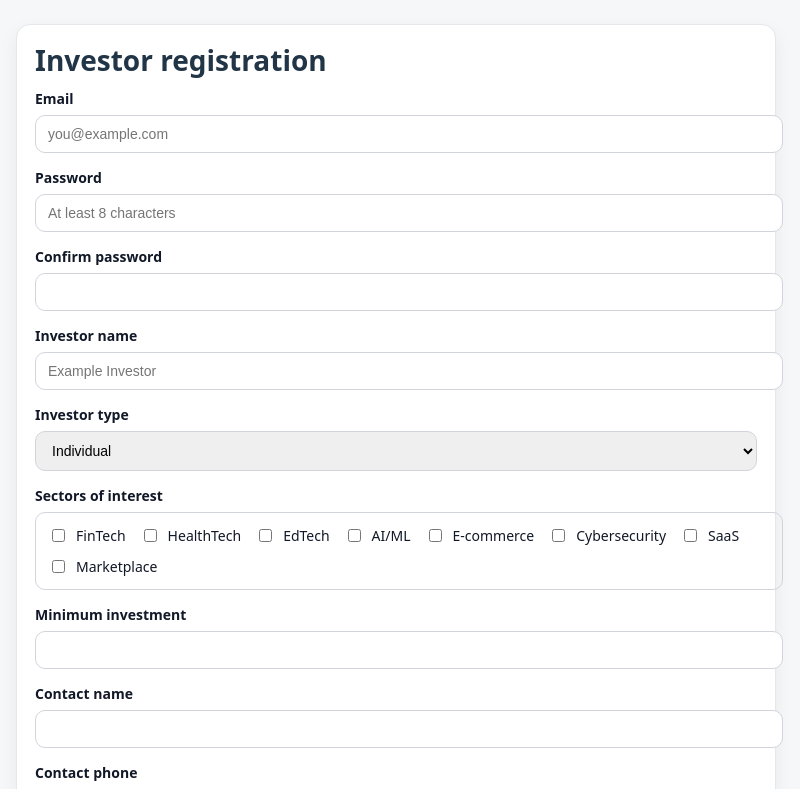
Scenario: RegisterInvestor › shows password mismatch error
Type "investor_test@example.com" into the field labelled "Email" at [409, 134], box top-left (35, 115), bottom-right (783, 153)
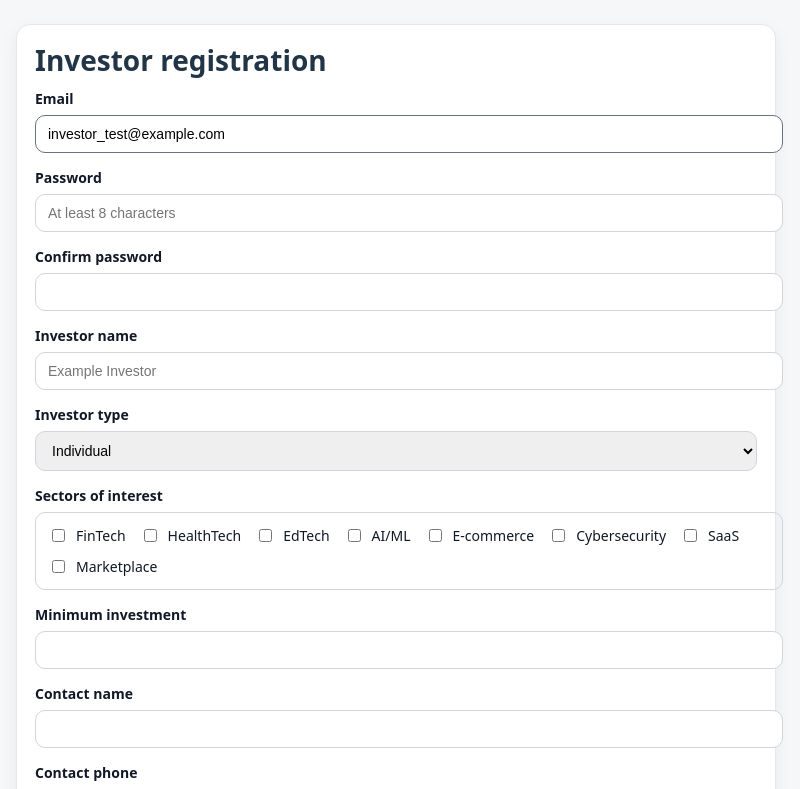
Type "TestPass123!" into the password field labelled "Password" at [409, 213], box top-left (35, 194), bottom-right (783, 232)
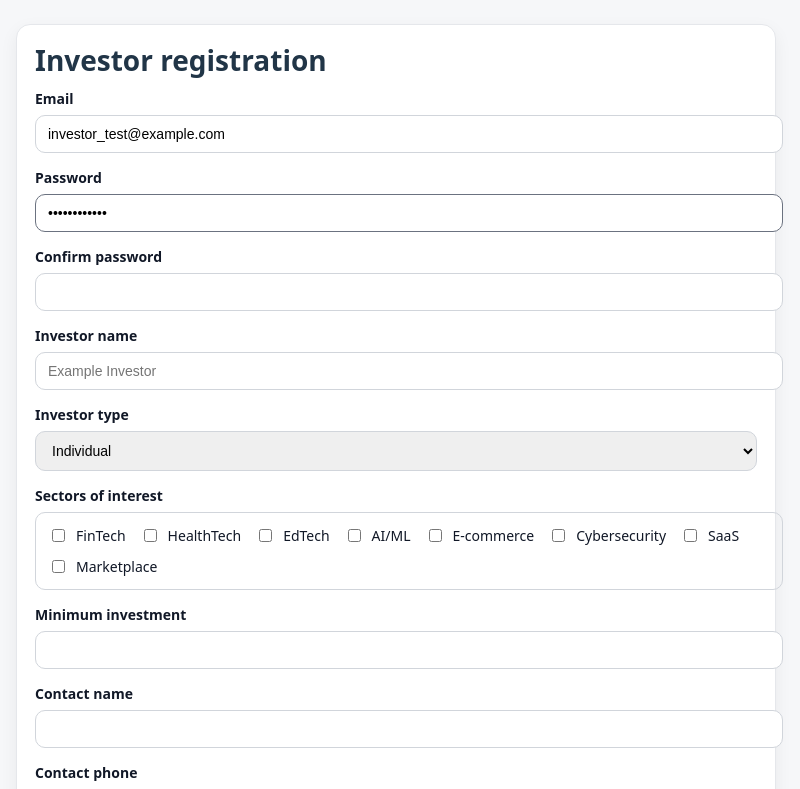
Type "Different123!" into the password field labelled "Confirm password" at [409, 292], box top-left (35, 273), bottom-right (783, 311)
(page scrolled)
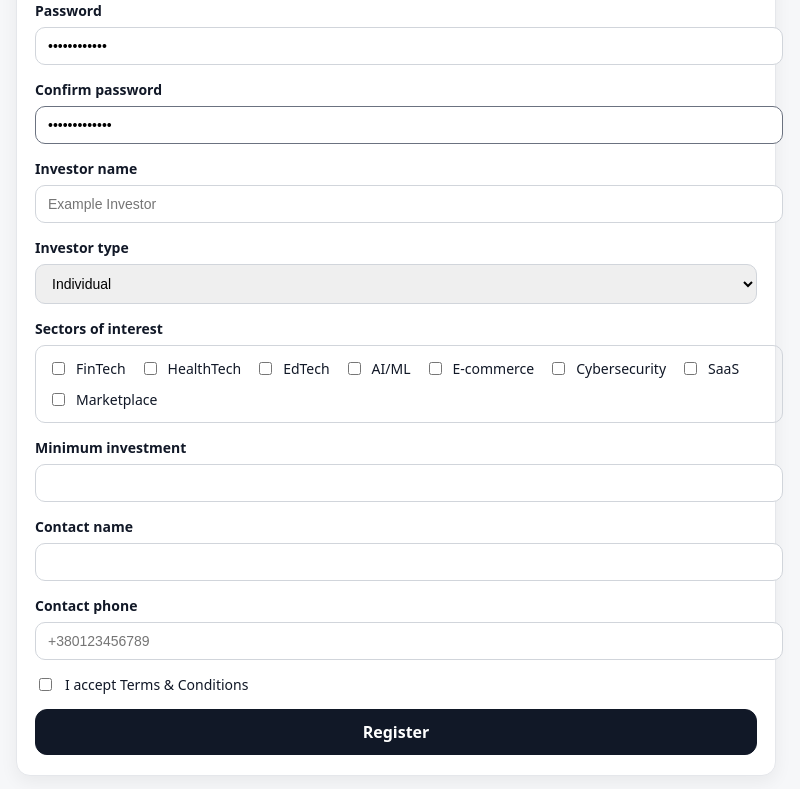
Click the button "Register" at [396, 732], box top-left (35, 709), bottom-right (757, 755)
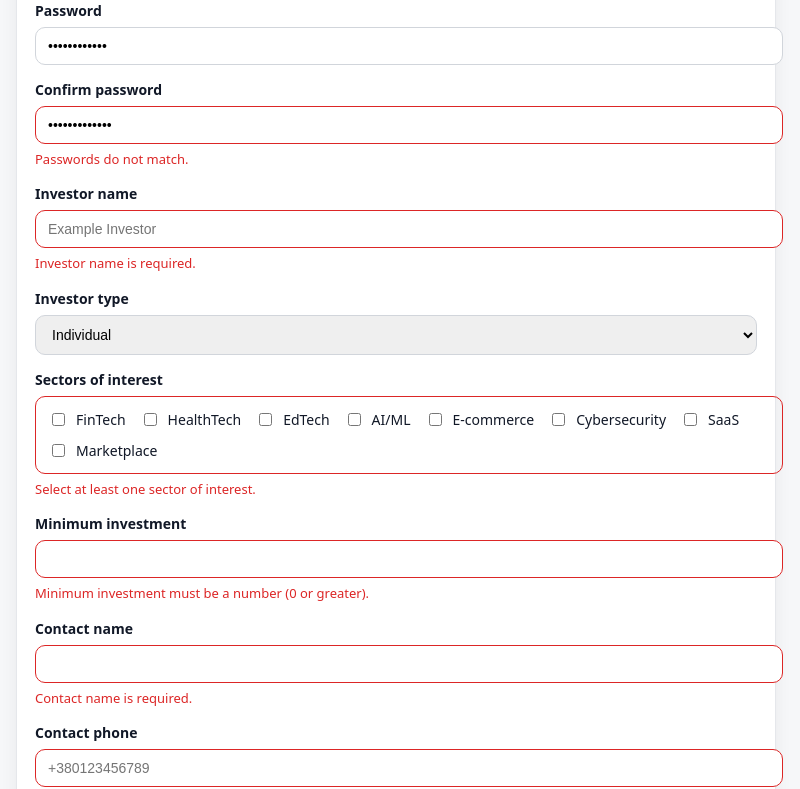
Expected: the text "Passwords do not match." is shown, top-left (35, 150), bottom-right (188, 168)
